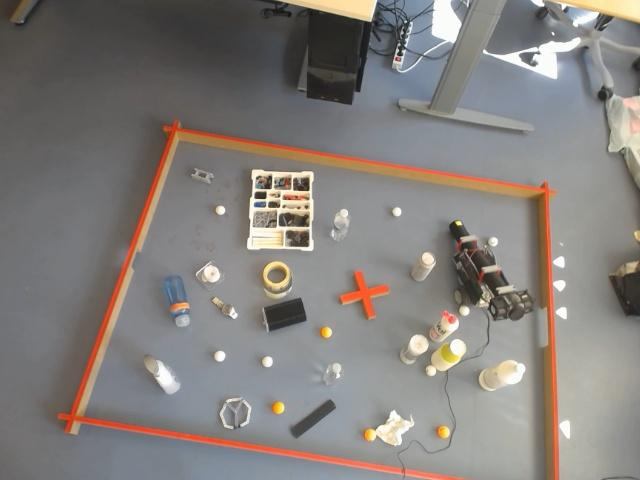orange: (270, 401, 286, 414), (437, 425, 451, 439), (365, 428, 376, 441), (321, 327, 332, 338)
robot: (449, 220, 532, 321)
robot-front: (453, 220, 463, 227)
white: (212, 350, 228, 363), (260, 355, 274, 368), (460, 304, 470, 316), (426, 365, 436, 377), (488, 237, 498, 247), (216, 206, 225, 215), (393, 207, 401, 216)
